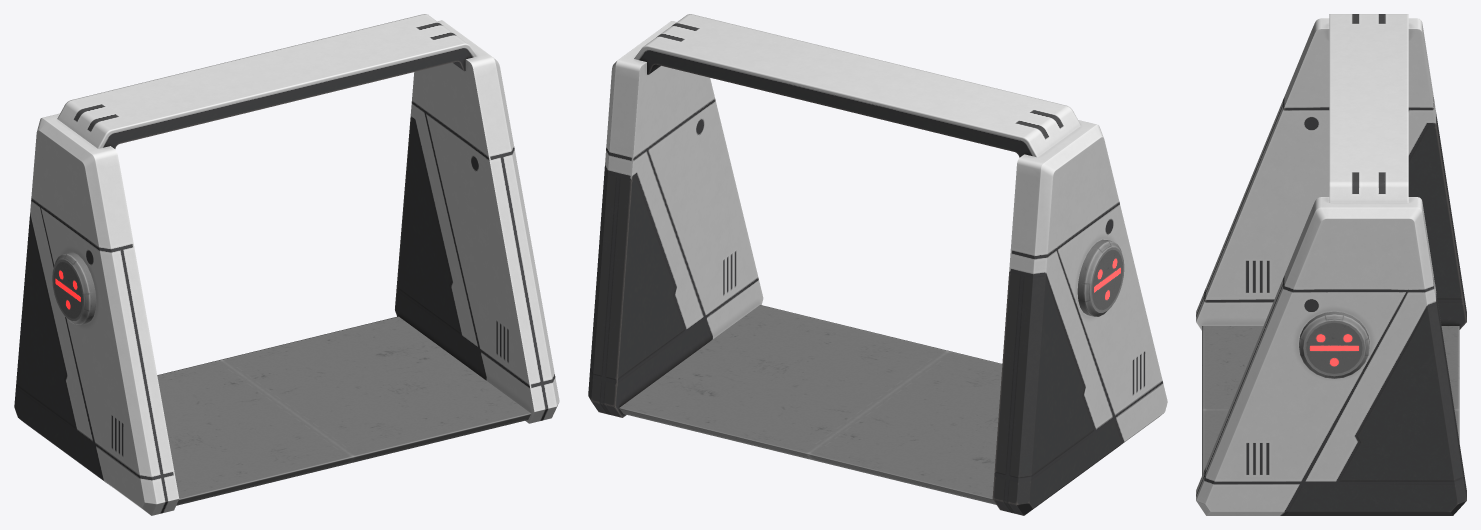
Rendered from LabStand01_1.FBX.
3 views of the same model, side by side, from view 1: azimuth 30°, elevation 25°; view 2: azimuth 150°, elevation 25°; view 3: azimuth 270°, elevation 25° (orthographic). The views are drawn at different scales.
Visible parts, largest first — view 1: LabStand01_1; view 2: LabStand01_1; view 3: LabStand01_1.
Part boxes in pixels (x1,y1,x2,y2): LabStand01_1: [14, 14, 559, 515]; LabStand01_1: [588, 14, 1167, 515]; LabStand01_1: [1196, 14, 1466, 515].
Size of what is drawn, in the model's own units: 2.7 by 1.98 by 1.5.
